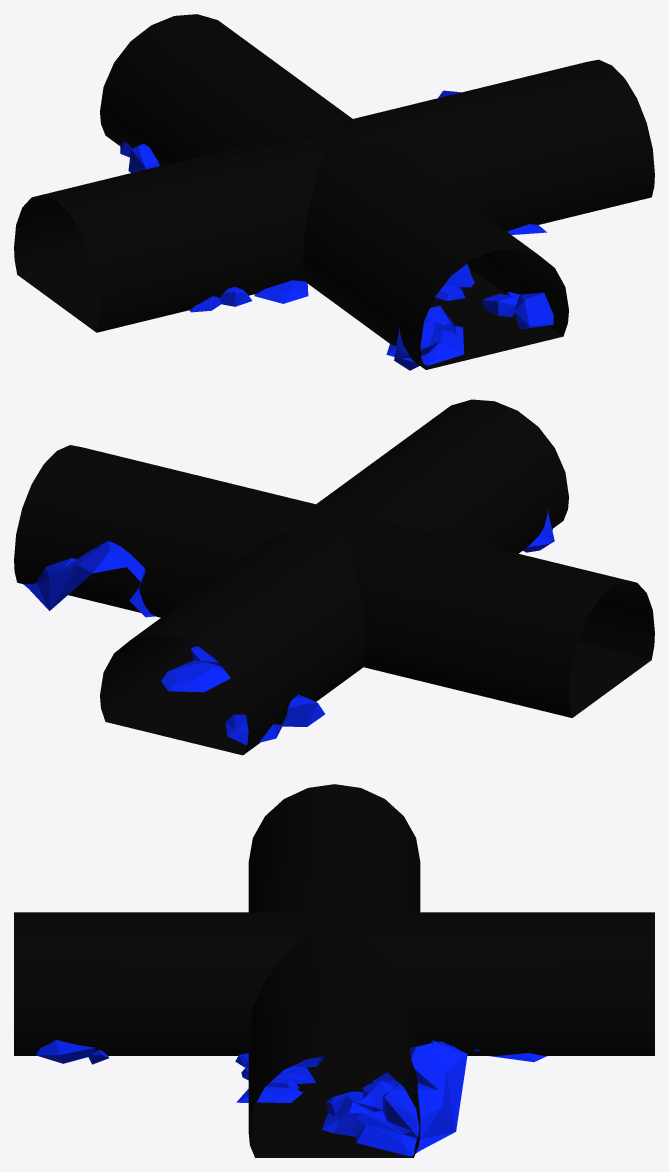
File: 4way_intersection_collider.dae
3 views of the same model, one above another, from view 1: azimuth 30°, elevation 25°; view 2: azimuth 150°, elevation 25°; view 3: azimuth 270°, elevation 25° (orthographic).
Parts seen in each view (by area): view 1: FBXASC052WayIntersection_Collider; view 2: FBXASC052WayIntersection_Collider; view 3: FBXASC052WayIntersection_Collider.
Part boxes in pixels (x1,y1,x2,y2): FBXASC052WayIntersection_Collider: (14,14,654,370); FBXASC052WayIntersection_Collider: (14,399,654,755); FBXASC052WayIntersection_Collider: (14,784,654,1157).
Size of the model in its own units: 2000 by 2000 by 409.
